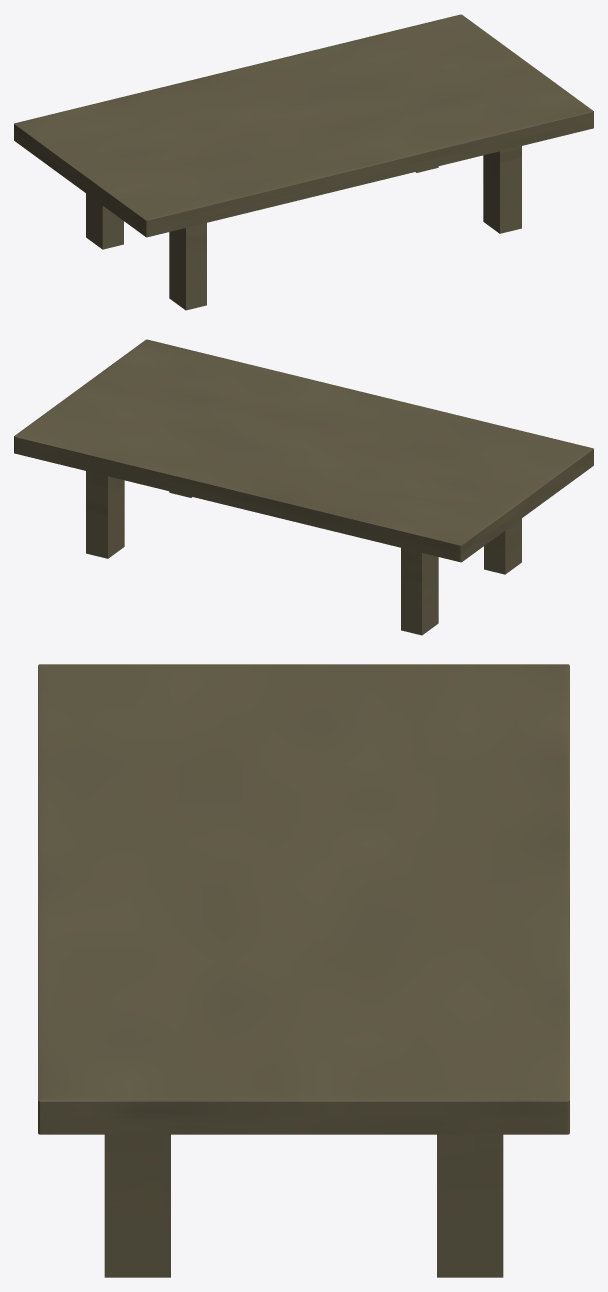
Rendered from Table.glb.
3 views of the same model, one above another, from view 1: azimuth 30°, elevation 25°; view 2: azimuth 150°, elevation 25°; view 3: azimuth 270°, elevation 25° (orthographic). The views are drawn at different scales.
Parts seen in each view (by area): view 1: Table_Baked; view 2: Table_Baked; view 3: Table_Baked.
Part boxes in pixels (<box>): Table_Baked: <box>14,14,593,310</box>; Table_Baked: <box>14,339,593,635</box>; Table_Baked: <box>38,664,569,1277</box>.
Size of the model in its own units: 12.99 by 3.21 by 6.68.
Materials: 1 (1 with a texture image).
